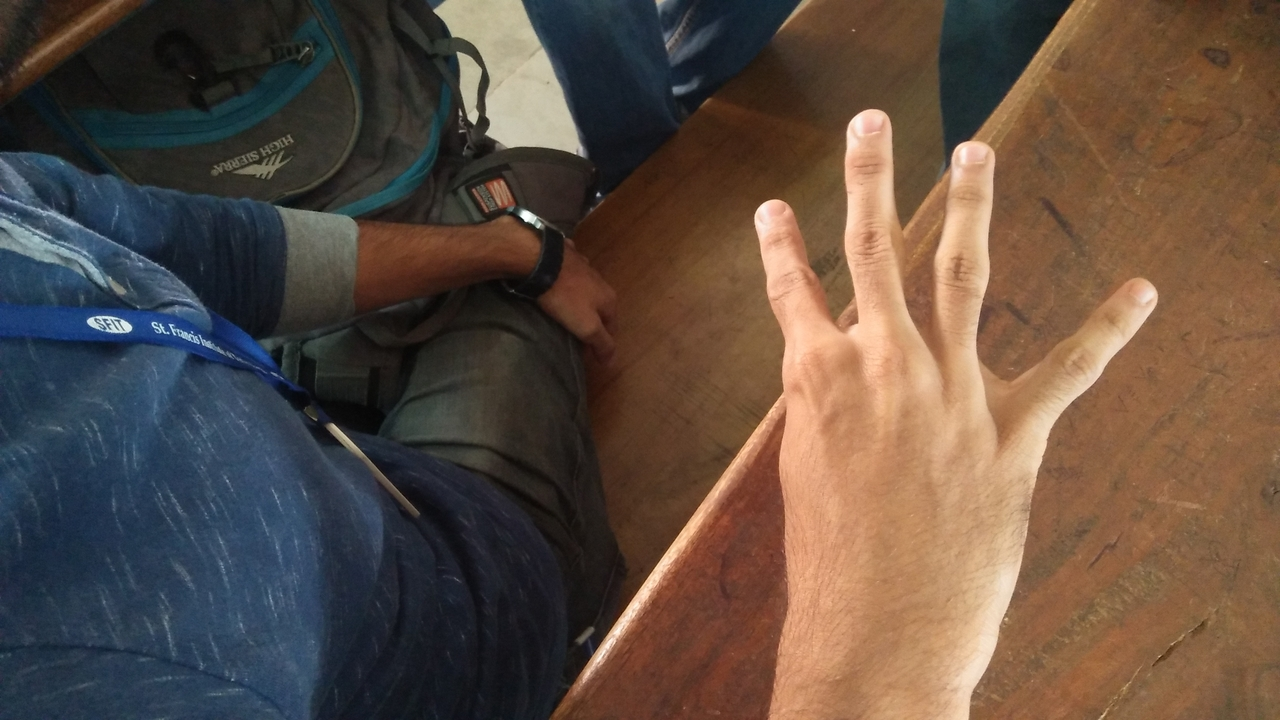fingertip: (940, 128, 1012, 190), (744, 188, 810, 250), (1102, 266, 1172, 320), (836, 110, 906, 160)
